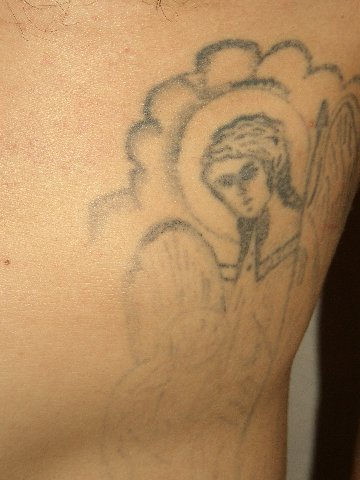tatu1_angel: (87, 36, 360, 457)
